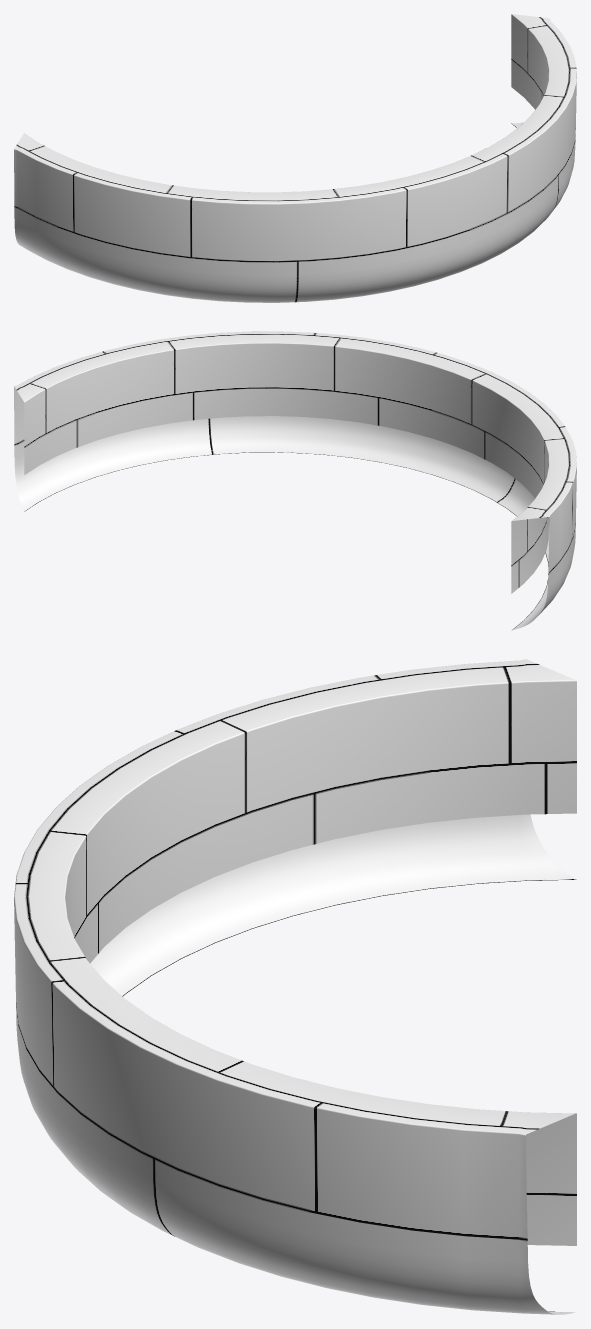
The model's file is Parapet01_700xR350cm.FBX.
3 renders of one model, top to bottom at view 1: azimuth 30°, elevation 25°; view 2: azimuth 150°, elevation 25°; view 3: azimuth 270°, elevation 25°, orthographic. The views are drawn at different scales.
Parts seen in each view (by area): view 1: Parapet01_700xR350cm; view 2: Parapet01_700xR350cm; view 3: Parapet01_700xR350cm.
Part boxes in pixels (box(x1,y1,x2,y2)): Parapet01_700xR350cm: box(14, 14, 576, 302); Parapet01_700xR350cm: box(14, 331, 576, 630); Parapet01_700xR350cm: box(14, 659, 576, 1314).
Size of the model in its own units: 770 by 150 by 385.
